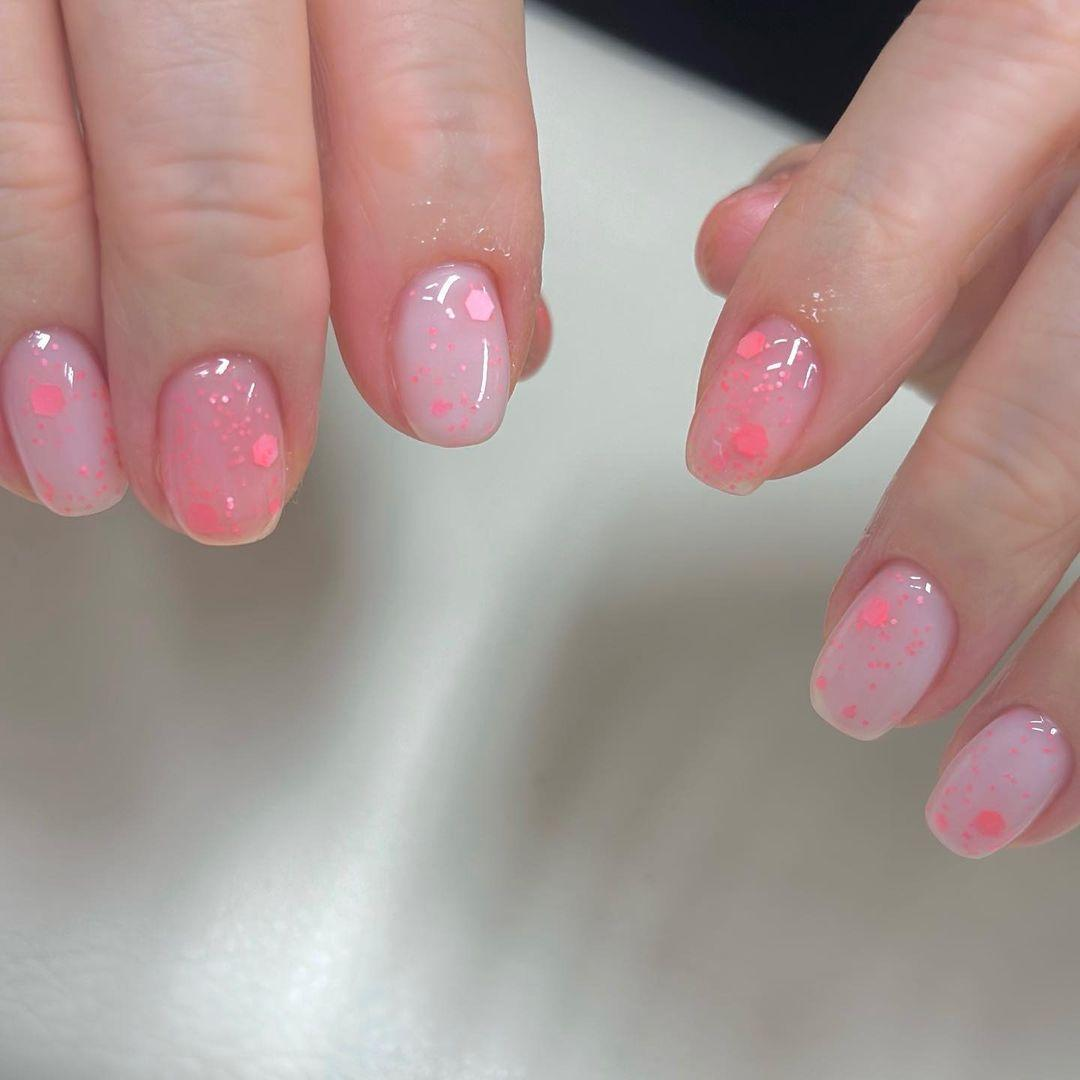nail: (807, 556, 958, 741), (152, 348, 288, 546), (684, 311, 822, 496), (0, 323, 129, 518), (384, 259, 512, 447), (924, 703, 1073, 859), (693, 169, 792, 296)
